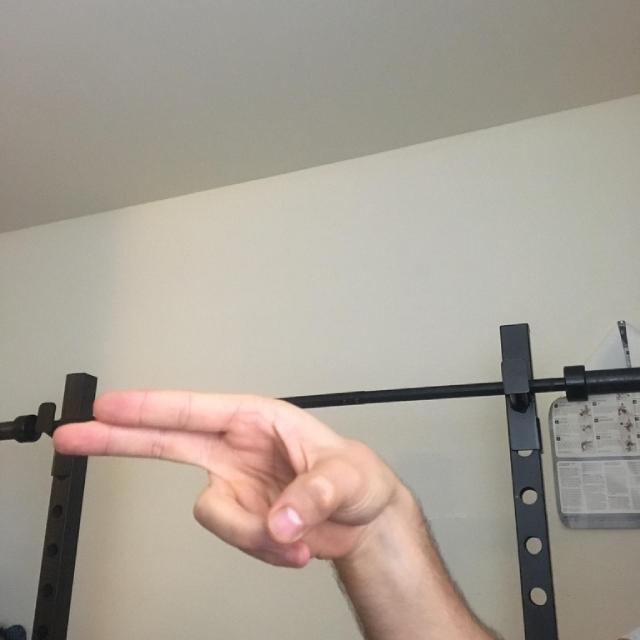H: (32, 344, 441, 622)
